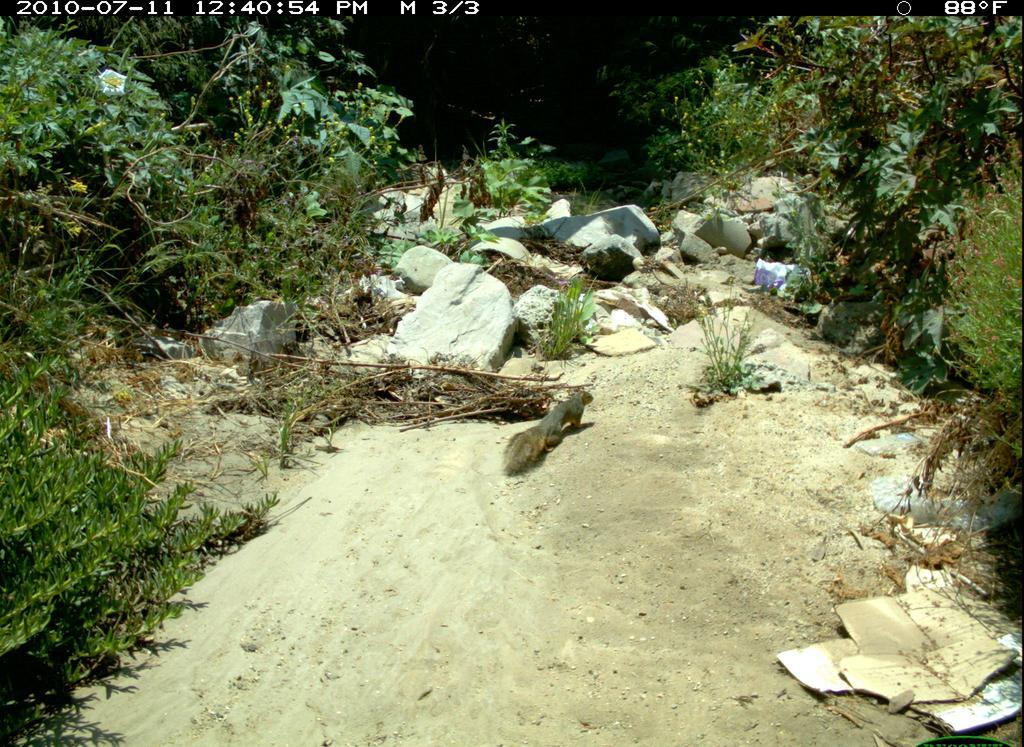squirrel: (497, 386, 601, 483)
